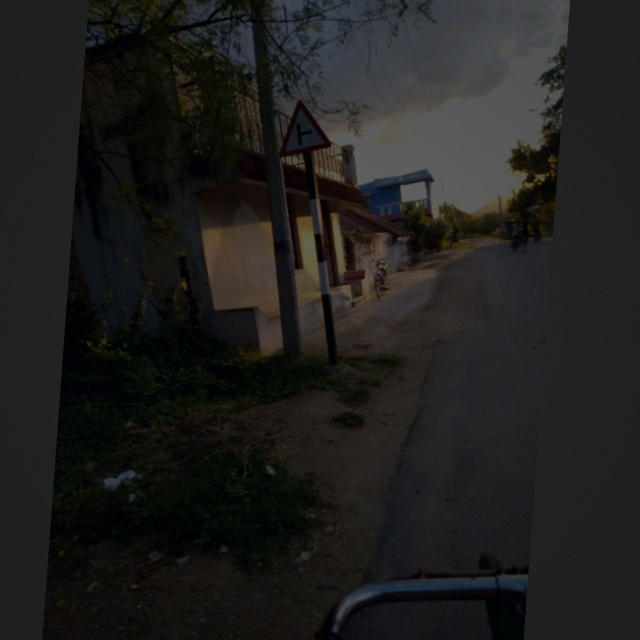Side_Road_Right: (272, 94, 340, 164)
